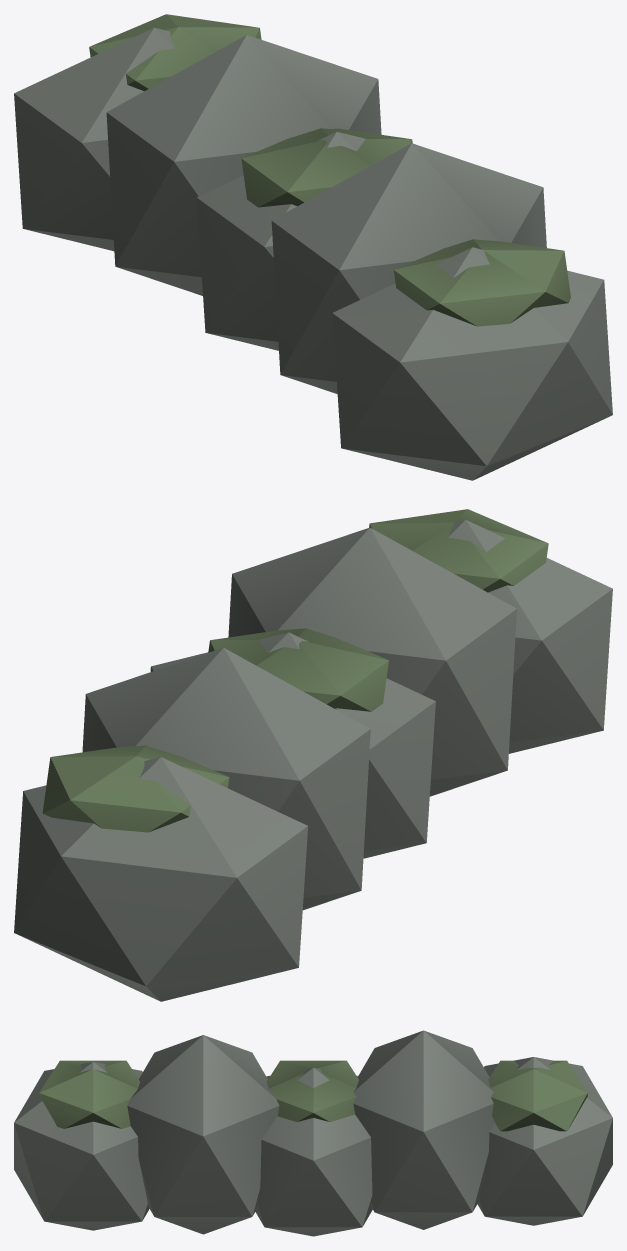
Rendered from cove_headland.glb.
3 views of the same model, one above another, from view 1: azimuth 30°, elevation 25°; view 2: azimuth 150°, elevation 25°; view 3: azimuth 270°, elevation 25° (orthographic). The views are drawn at different scales.
Parts seen in each view (by area): view 1: cove_headland; view 2: cove_headland; view 3: cove_headland.
Part boxes in pixels (left/top/right/bottom): cove_headland: left=14, top=14, right=612, bottom=480; cove_headland: left=14, top=509, right=612, bottom=1001; cove_headland: left=14, top=1030, right=612, bottom=1236.
Bounding box in the file's own units: 2.89 × 2.62 × 7.07.
